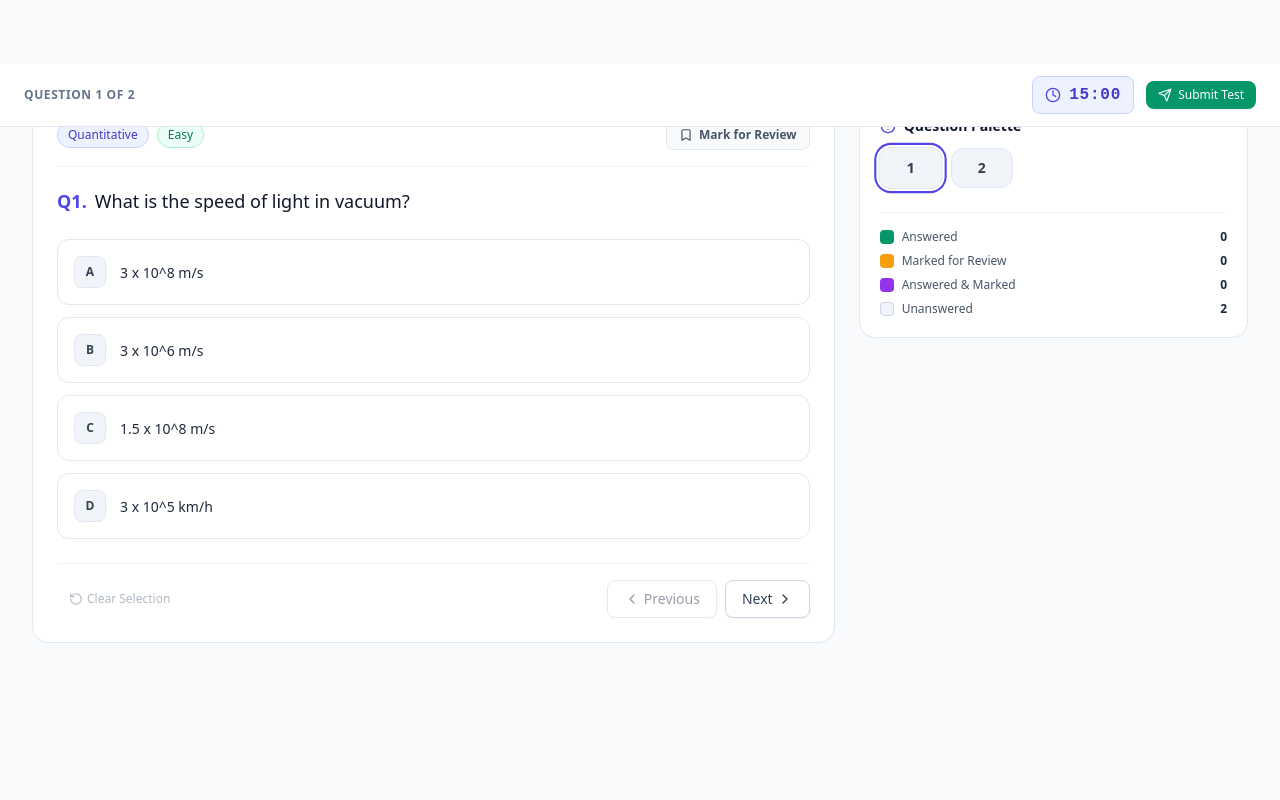
Test: Candidate Assessment UI Flow › Assessment Engine Reliability & Concurrency › smoothly routes to result if attempt was already finalized on the server (ATTEMPT_ALREADY_FINALIZED)
Step 1. Click the button "Submit Test" → (1201, 95), box [1146,81,1256,109]
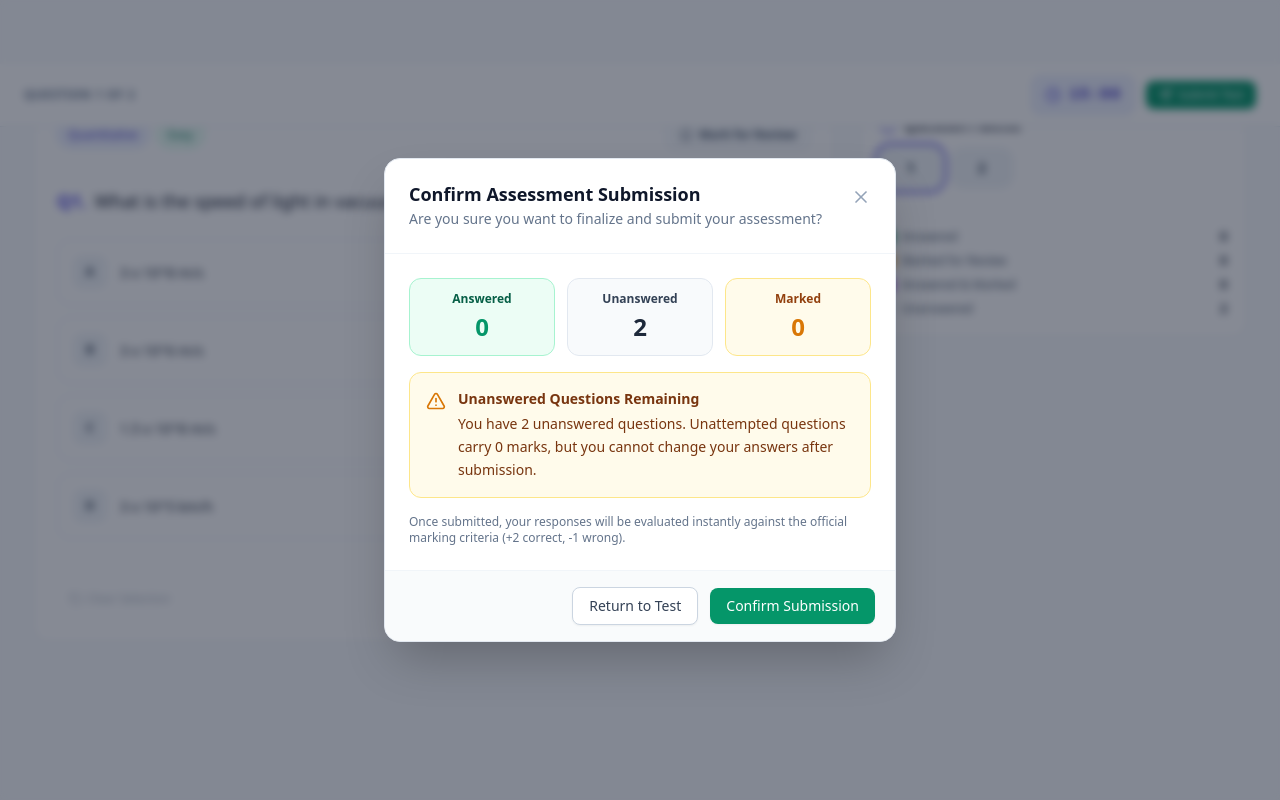
Step 2. Click the button "Confirm Submission" → (793, 606), box [710,588,875,624]
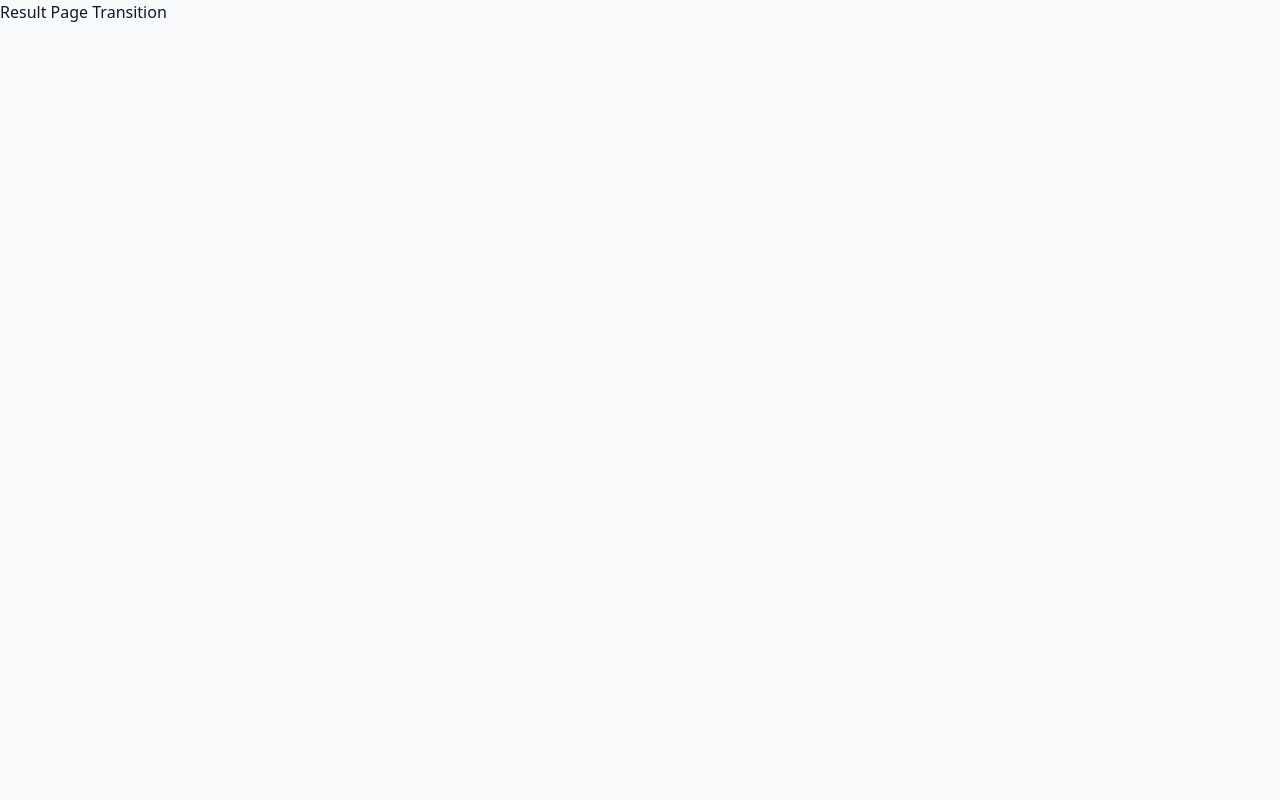
Check: the text "Result Page Transition" is shown, box [0,1,167,23]
